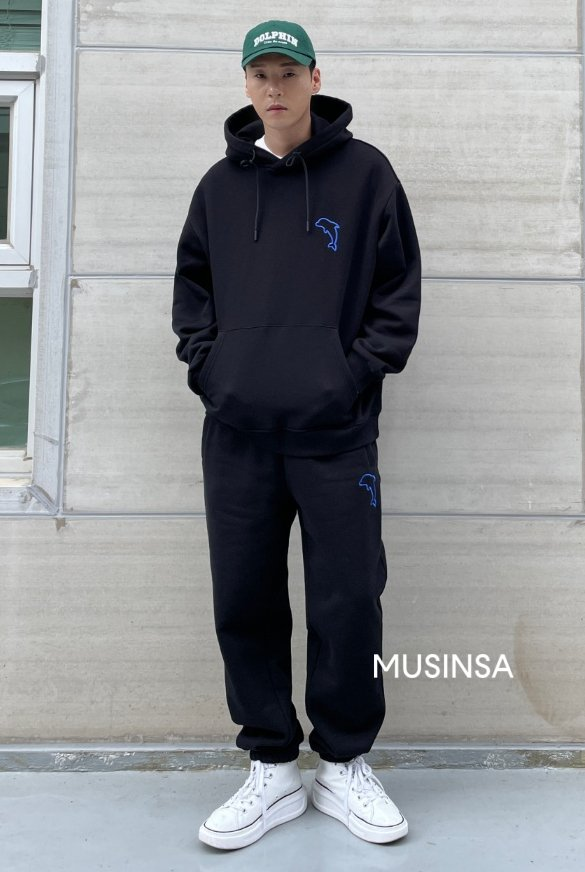Cap: (236, 17, 316, 71)
Hoodie: (168, 97, 417, 435)
Shoes: (183, 755, 426, 849)
Training pants: (191, 416, 410, 762)
